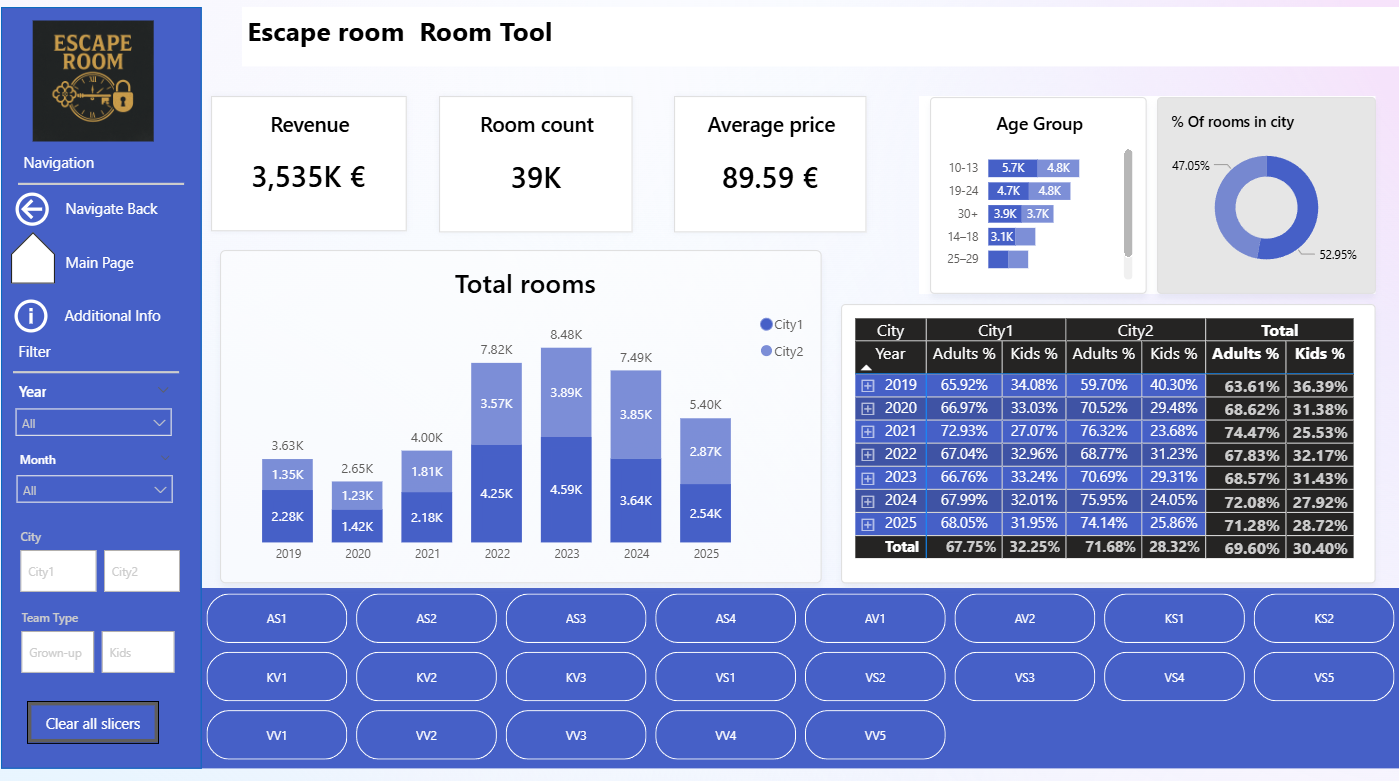

The dashboard page shown, as its layout file describes it:
{"tool":"powerbi","page":{"name":"Seperate room tool","canvas":[1280,720],"ordinal":1},"visuals":[{"type":"textbox","box":[224.4,9,1055.6,54.1],"z":0},{"type":"shape","box":[840,90,415.5,180],"z":1000},{"type":"donutChart","title":"% Of rooms in city","fields":{"Y":["full_data.City count"],"Category":["full_data.City"]},"box":[1056.4,90.9,199.1,179.1],"z":2000},{"type":"advancedSlicerVisual","fields":{"Values":["full_data.Room type"]},"box":[187.5,537.5,1092.5,163.8],"z":3000},{"type":"shape","box":[5,8.8,182.5,692.5],"z":4000},{"type":"shape","box":[21.3,156.8,151.1,27.1],"z":5000},{"type":"shape","box":[16.8,319.2,151.1,44],"z":6000},{"type":"textbox","box":[16.8,307.9,92.5,28.2],"z":7000},{"type":"textbox","box":[21.3,136.5,92.5,29.3],"z":8000},{"type":"slicer","fields":{"Values":["full_data.Data.Variation.Date Hierarchy.Year"]},"box":[13.4,349.6,152.2,56.4],"z":9000},{"type":"slicer","fields":{"Values":["full_data.Data.Variation.Date Hierarchy.Month"]},"box":[14.5,412.8,152.2,56.4],"z":10000},{"type":"advancedSlicerVisual","title":"City","fields":{"Values":["full_data.City"]},"box":[17.9,482.7,156.8,63.2],"z":11000},{"type":"advancedSlicerVisual","title":"Team Type","fields":{"Values":["full_data.TeamType"]},"box":[19,556,150,63.2],"z":12000},{"type":"actionButton","box":[13.9,172.8,46.6,40.3],"z":13000},{"type":"actionButton","box":[12.6,270,45.6,40],"z":14000},{"type":"textbox","box":[58.7,178.2,120.9,28.7],"z":15000},{"type":"textbox","box":[58.7,227.5,120.9,28.7],"z":16000},{"type":"textbox","box":[58.2,275.6,121.1,27.8],"z":17000},{"type":"actionButton","box":[29.1,640.3,120,38.5],"z":18000},{"type":"pageNavigator","box":[14.9,213.3,40,47.8],"z":19000},{"type":"image","box":[27.5,16.2,123.8,120],"z":20000},{"type":"card","title":"Room count","fields":{"Values":["full_data.Count_Kambarys"]},"box":[403.8,90,176.2,123.8],"z":21000},{"type":"columnChart","title":"Total rooms","fields":{"Category":["full_data.Data.Variation.Date Hierarchy.Year","full_data.Data.Variation.Date Hierarchy.Quarter","full_data.Data.Variation.Date Hierarchy.Month","full_data.Data.Variation.Date Hierarchy.Day"],"Y":["full_data.Count_Kambarys"],"Series":["full_data.City"]},"box":[204.5,230,547.3,302.7],"z":22000},{"type":"pivotTable","fields":{"Rows":["full_data.Date.Variation.Date Hierarchy.Year","full_data.Date.Variation.Date Hierarchy.Quarter","full_data.Date.Variation.Date Hierarchy.Month","full_data.Date.Variation.Date Hierarchy.Day"],"Values":["full_data.Grown-up %","full_data.Kids %"],"Columns":["full_data.City"]},"box":[769.1,279.1,486.4,253.6],"z":23000},{"type":"barChart","title":"Age Group","fields":{"Category":["full_data.Age Group"],"Y":["full_data.Count_Kambarys"],"Series":["full_data.City"]},"box":[850,90.9,197.3,179.1],"z":24000},{"type":"card","title":"Revenue","fields":{"Values":["Sum(full_data.Revenue)"]},"box":[196.2,90,177.5,122.5],"z":25000},{"type":"card","title":"Average price","fields":{"Values":["full_data.Average Price"]},"box":[617.5,90,175,123.8],"z":26000}]}

Visuals, with their boxes in screenshot pixels (x1, y1, x2, y2), scaled from the page's 1280x720 canvas onto the 1399x781 screenshot:
textbox: crop(245, 10, 1398, 68)
shape: crop(918, 98, 1372, 293)
"% Of rooms in city" donutChart: crop(1155, 99, 1372, 293)
advancedSlicerVisual - full_data.Room type: crop(205, 583, 1398, 761)
shape: crop(5, 10, 205, 761)
shape: crop(23, 170, 188, 199)
shape: crop(18, 346, 184, 394)
textbox: crop(18, 334, 119, 365)
textbox: crop(23, 148, 124, 180)
slicer - full_data.Data.Variation.Date Hierarchy.Year: crop(15, 379, 181, 440)
slicer - full_data.Data.Variation.Date Hierarchy.Month: crop(16, 448, 182, 509)
"City" advancedSlicerVisual: crop(20, 524, 191, 592)
"Team Type" advancedSlicerVisual: crop(21, 603, 185, 672)
actionButton: crop(15, 187, 66, 231)
actionButton: crop(14, 293, 64, 336)
textbox: crop(64, 193, 196, 224)
textbox: crop(64, 247, 196, 278)
textbox: crop(64, 299, 196, 329)
actionButton: crop(32, 695, 163, 736)
pageNavigator: crop(16, 231, 60, 283)
image: crop(30, 18, 165, 148)
"Room count" card: crop(441, 98, 634, 232)
"Total rooms" columnChart: crop(224, 249, 822, 578)
pivotTable - full_data.Date.Variation.Date Hierarchy.Year x full_data.Date.Variation.Date Hierarchy.Quarter: crop(841, 303, 1372, 578)
"Age Group" barChart: crop(929, 99, 1145, 293)
"Revenue" card: crop(214, 98, 408, 231)
"Average price" card: crop(675, 98, 866, 232)
